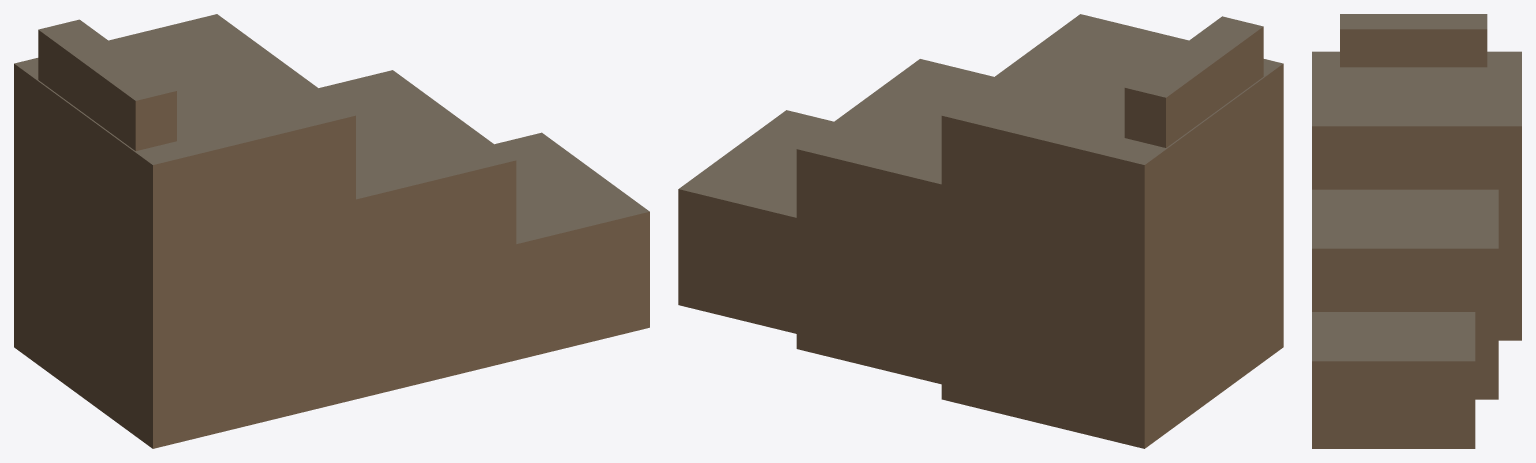
The model's file is cr-pueblo-terraces.far-facades-v3.lod2.glb.
The picture shows the model from 3 angles, left to right: view 1: azimuth 30°, elevation 25°; view 2: azimuth 150°, elevation 25°; view 3: azimuth 270°, elevation 25°; orthographic projection. The views are drawn at different scales.
Parts seen in each view (by area): view 1: cr-pueblo-terraces; view 2: cr-pueblo-terraces; view 3: cr-pueblo-terraces.
Part boxes in pixels (x1,y1,x2,y2): cr-pueblo-terraces: [14, 14, 649, 448]; cr-pueblo-terraces: [678, 14, 1283, 448]; cr-pueblo-terraces: [1312, 14, 1521, 448].
Size of the model in its own units: 18.6 by 11.95 by 9.
